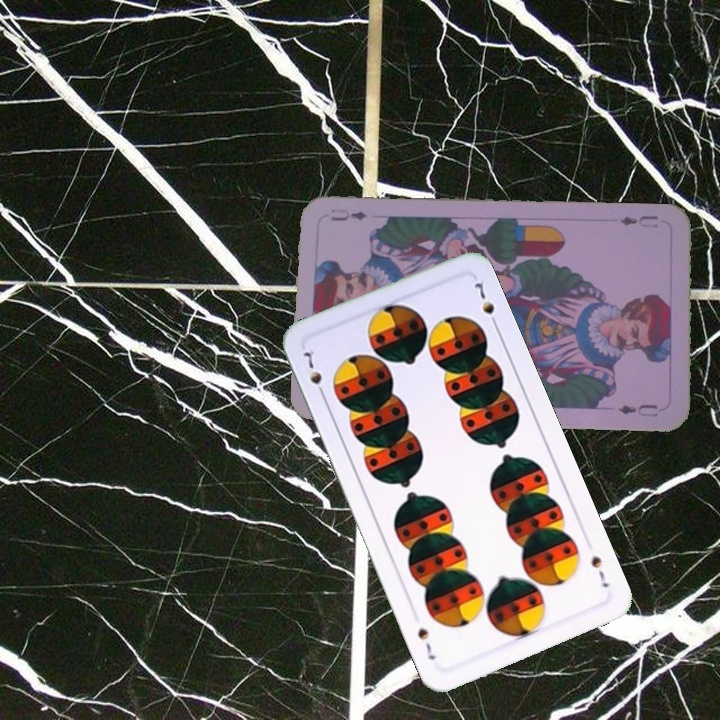EU: (615, 211, 660, 230)
S7: (299, 346, 328, 401), (587, 550, 612, 591)
